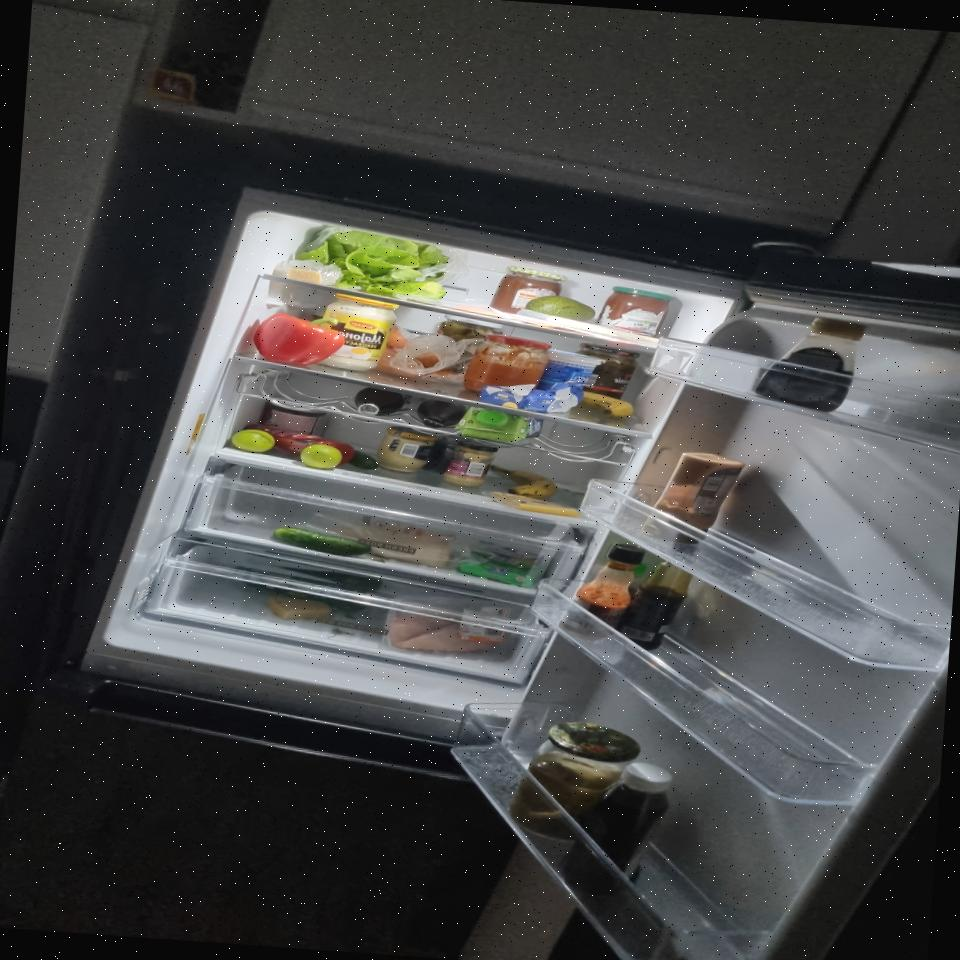Aguacate: (524, 295, 596, 322)
Carne pollo: (384, 593, 515, 658)
Lechuga/Endivia: (302, 227, 450, 296)
Mantequilla: (480, 380, 578, 414), (458, 552, 545, 588)
Pepino: (270, 527, 372, 556), (347, 450, 378, 471)
Plátano: (489, 466, 558, 498), (578, 390, 634, 420)
Queso: (333, 524, 452, 568), (488, 492, 582, 517), (266, 595, 331, 622)
Yogur: (534, 348, 606, 395)
Zanahoria: (376, 323, 466, 383)
